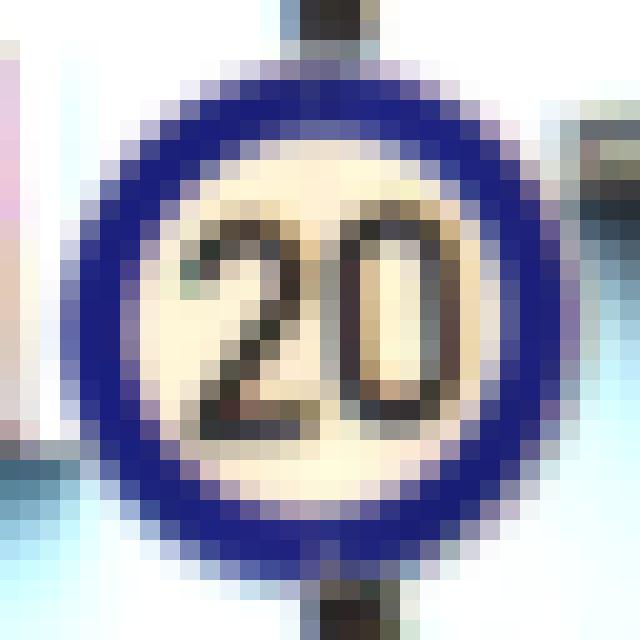SPEED LIMIT 20: (52, 77, 586, 578)
